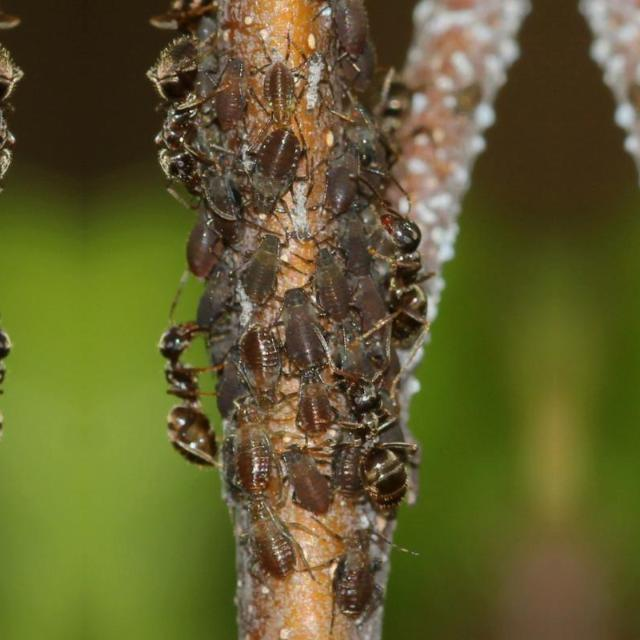Lasius: (130, 291, 246, 491), (292, 350, 426, 510), (352, 170, 453, 378), (134, 15, 222, 196), (0, 291, 36, 491), (0, 14, 34, 196)
